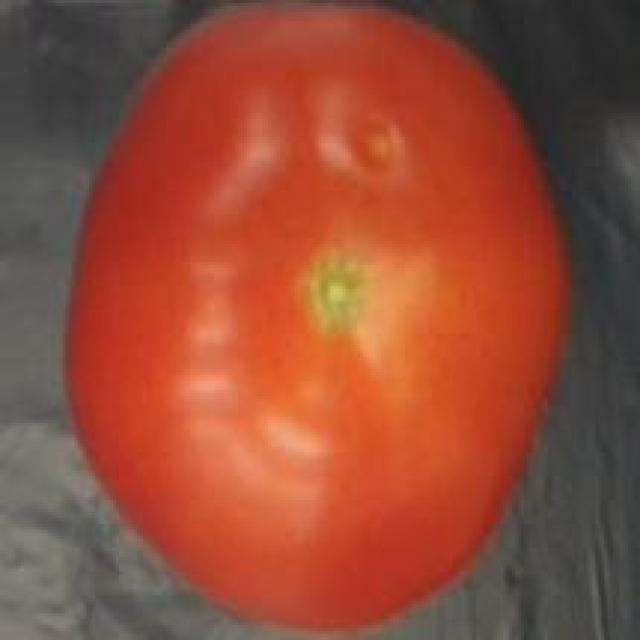ripe tomato: (48, 0, 590, 640)
